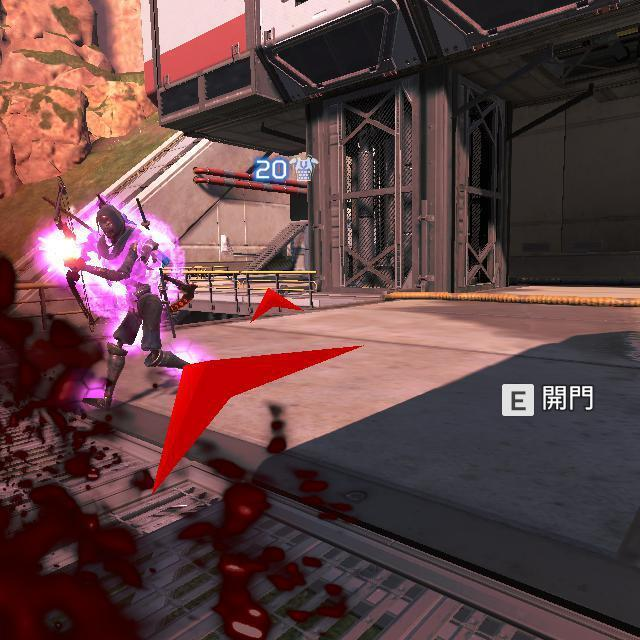avatar: (66, 202, 192, 411)
